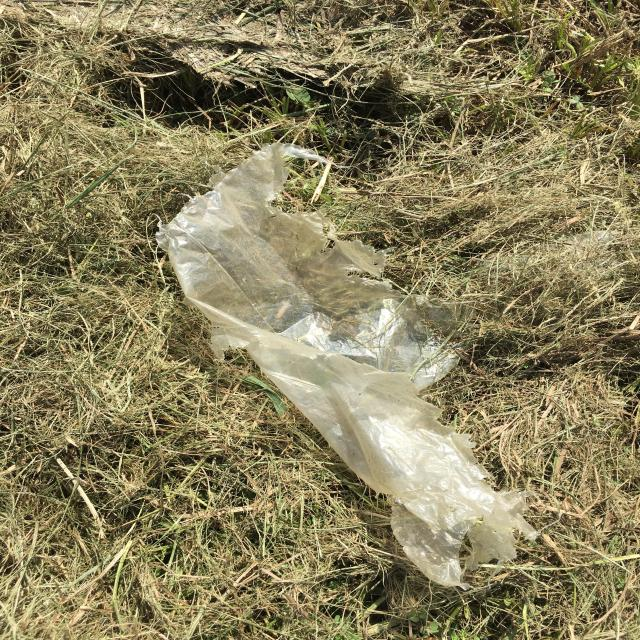litter: (139, 144, 529, 603)
